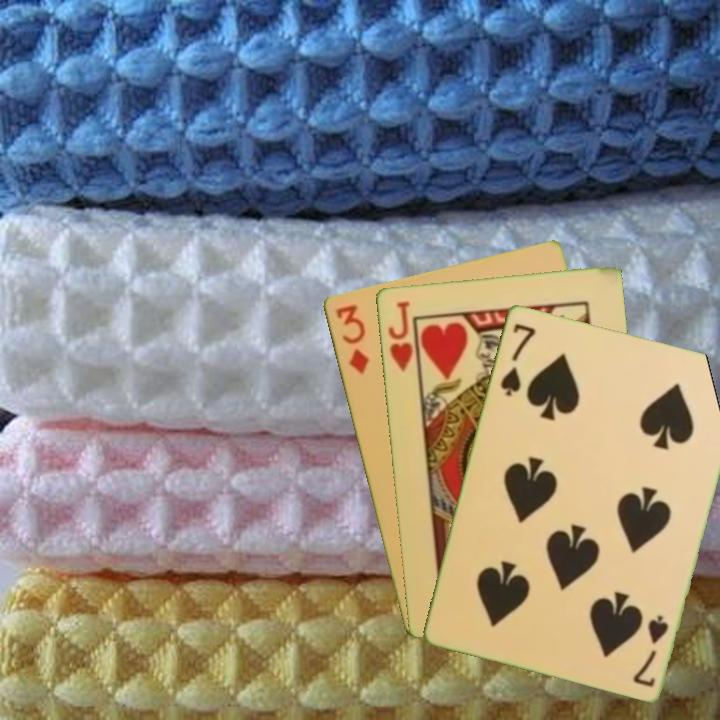3d: (332, 300, 372, 377)
7s: (496, 319, 539, 399), (629, 611, 671, 690)
Jh: (384, 297, 421, 378)
